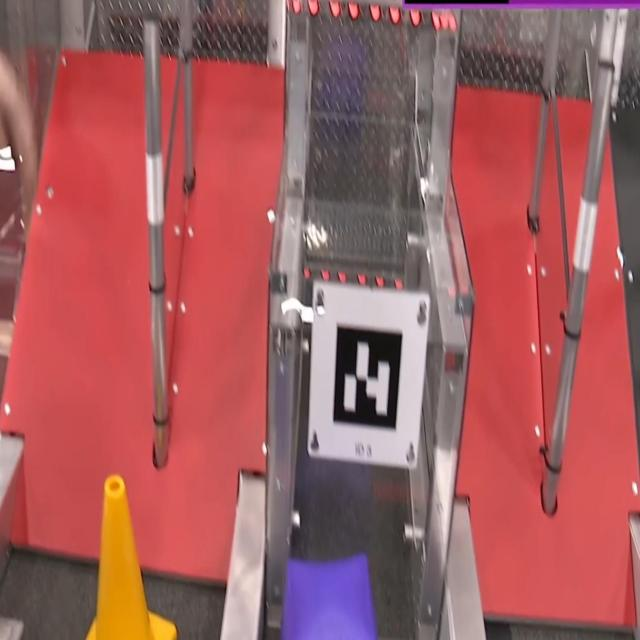frc_cone: (62, 475, 183, 640)
frc_cube: (278, 550, 381, 640)
